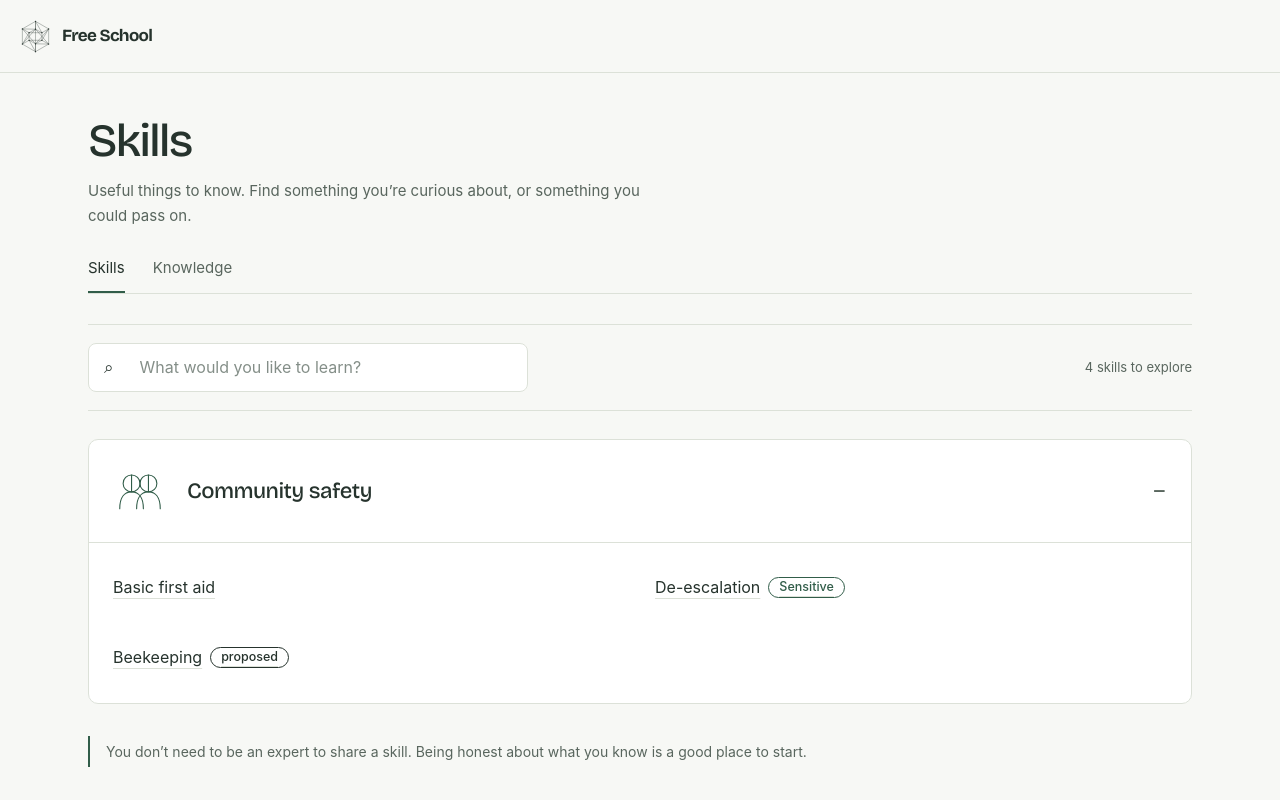
SkillsScreen › finds nested skills and shows a useful no-match state
Expected: the link "Basic first aid" is shown, [113, 577, 215, 597]
Type "first aid" into the search field named "Search skills". click: (319, 367)
box: [126, 344, 512, 391]
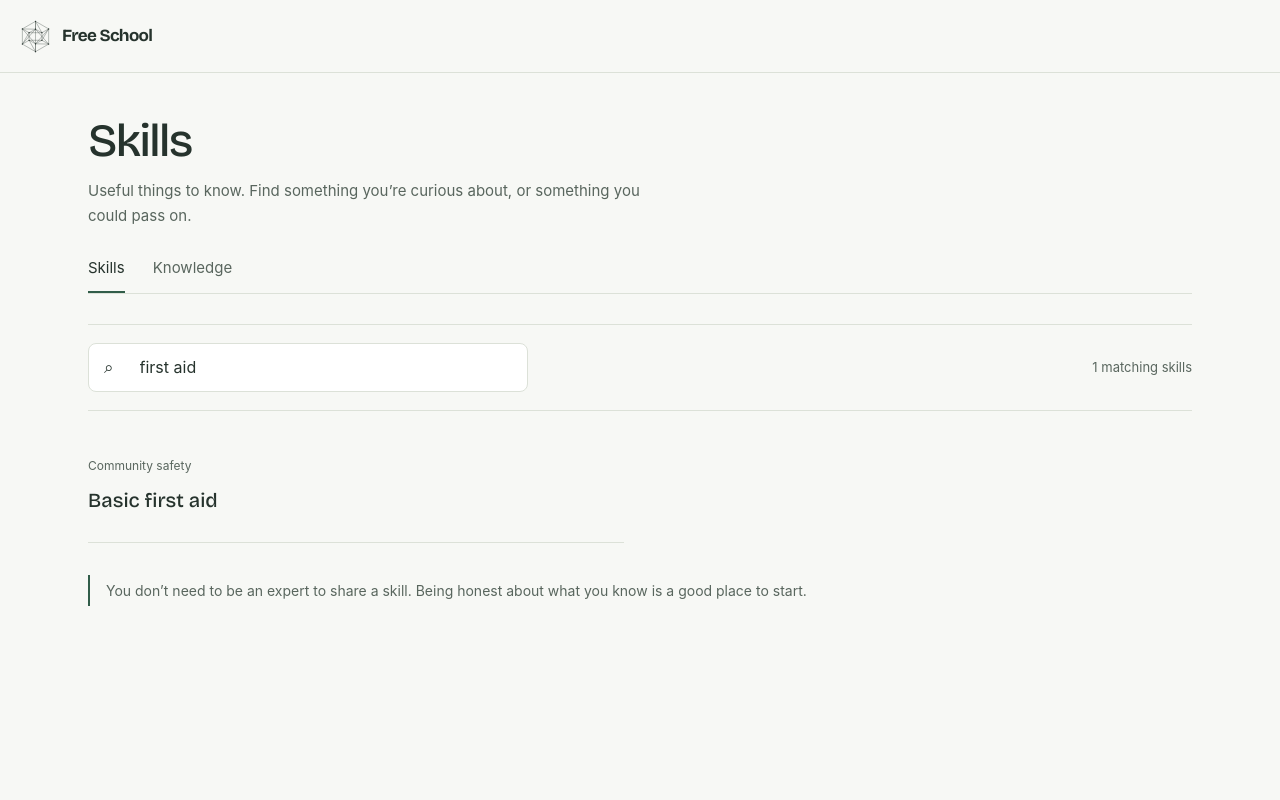
Expected: the link "Basic first aid" is shown, [88, 488, 218, 512]
Expected: the link "De-escalation" is gone
Expected: the text "1 matching skills" is shown, [1092, 358, 1192, 376]
Replace the text in the search field named "Search skills" with "nomatchhere". click: (319, 367)
box: [126, 344, 512, 391]
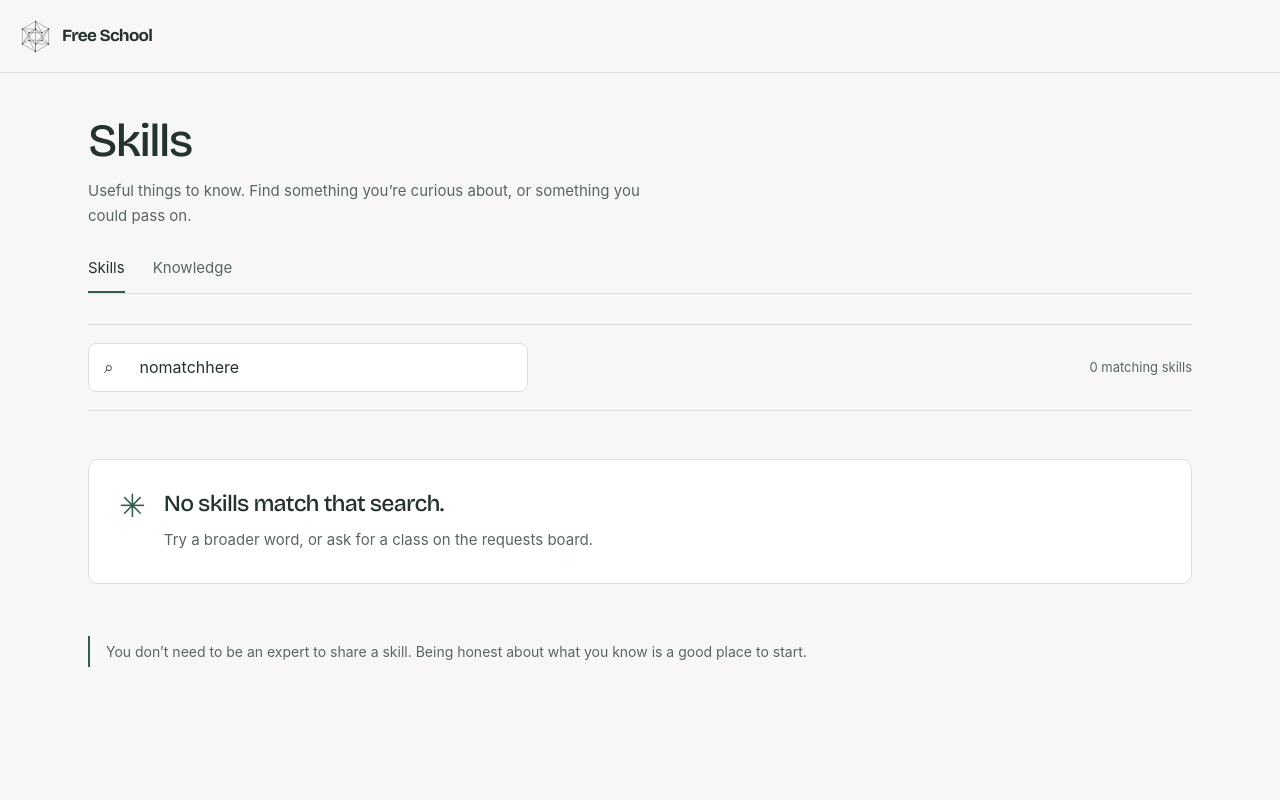
Expected: the heading "No skills match that search." is shown, [164, 490, 443, 517]
